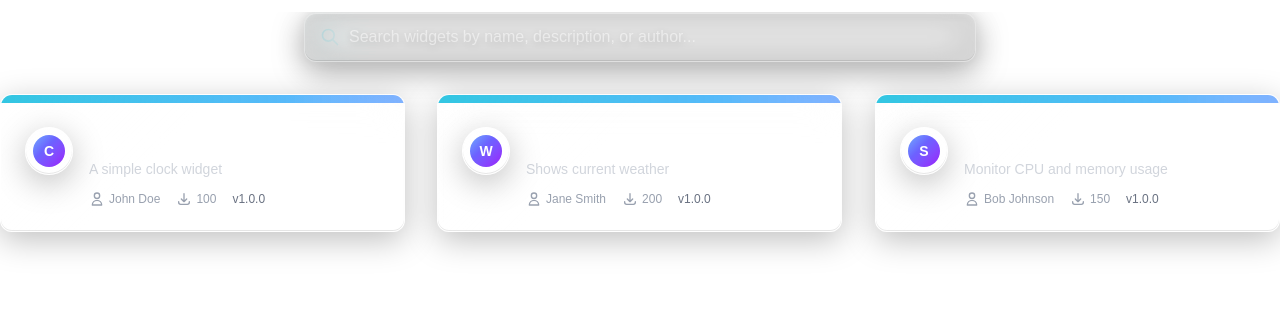
WidgetGallery › should filter widgets by description
In the search field with placeholder "Search widgets by name, description, or author...": (640, 37) top-left (304, 12), bottom-right (976, 62), type "weather"
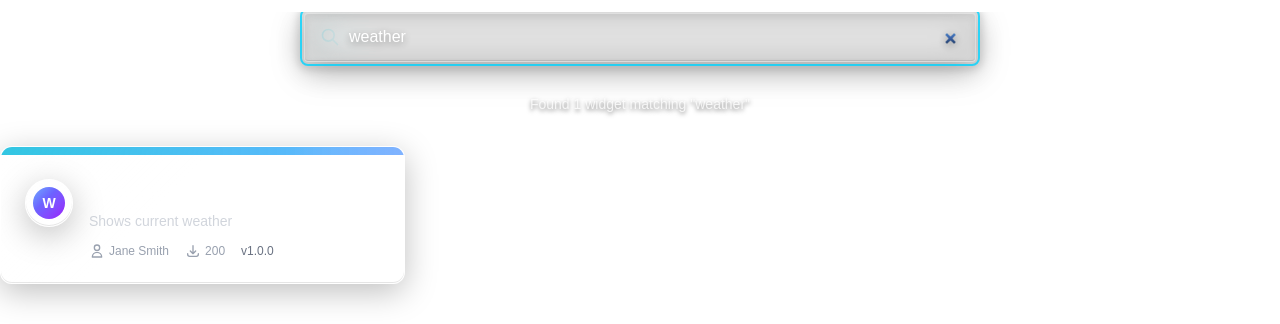
Check: the link "Clock Widget" is gone
